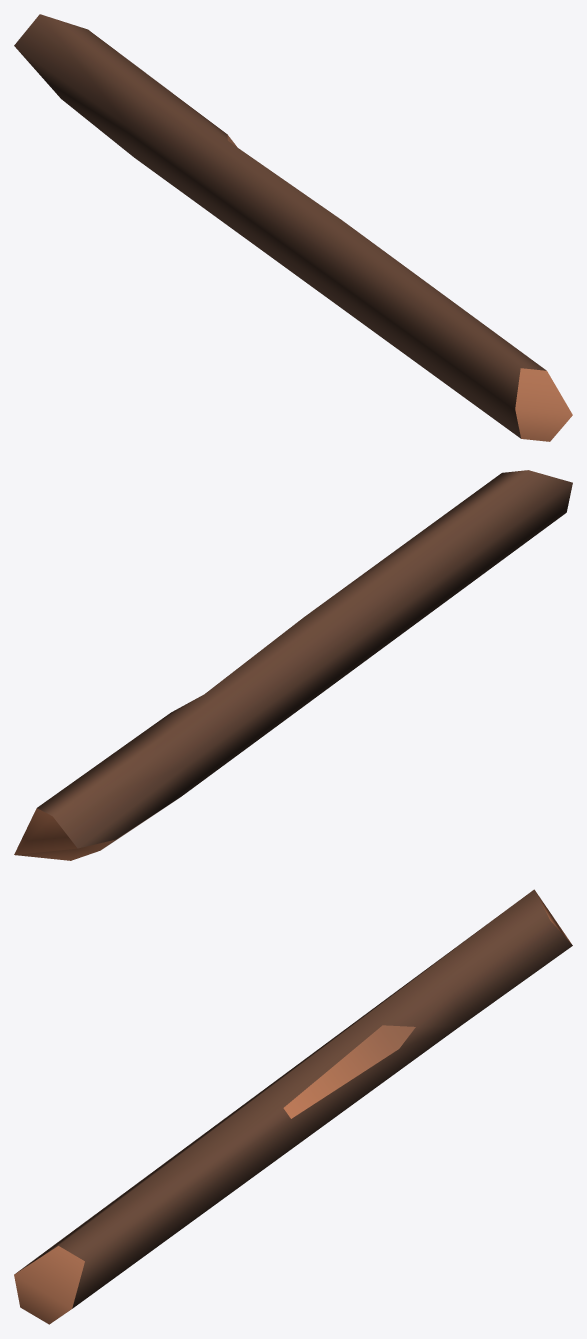
Rendered from Tree_Log_2D.fbx.
3 renders of one model, top to bottom at view 1: azimuth 30°, elevation 25°; view 2: azimuth 150°, elevation 25°; view 3: azimuth 330°, elevation 25°, orthographic.
Visible parts, largest first — view 1: Tree_Log_2D; view 2: Tree_Log_2D; view 3: Tree_Log_2D.
Part boxes in pixels (x1,y1,x2,y2): Tree_Log_2D: (14,14,572,441); Tree_Log_2D: (14,470,572,860); Tree_Log_2D: (14,889,572,1324).
Size of the model in its own units: 0.2501 by 0.2636 by 3.4.
